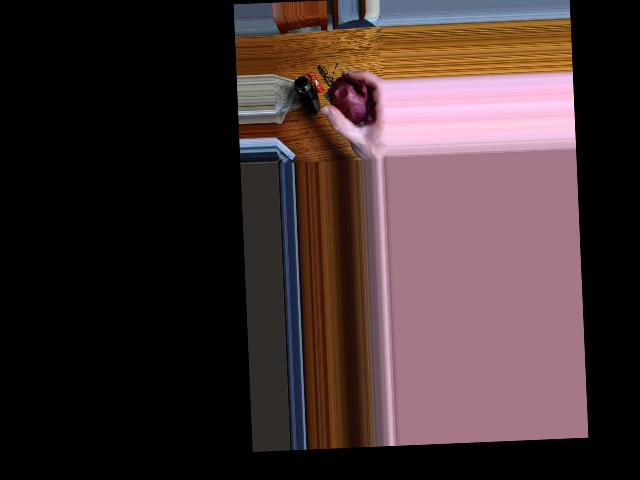onion: (334, 68, 374, 129)
